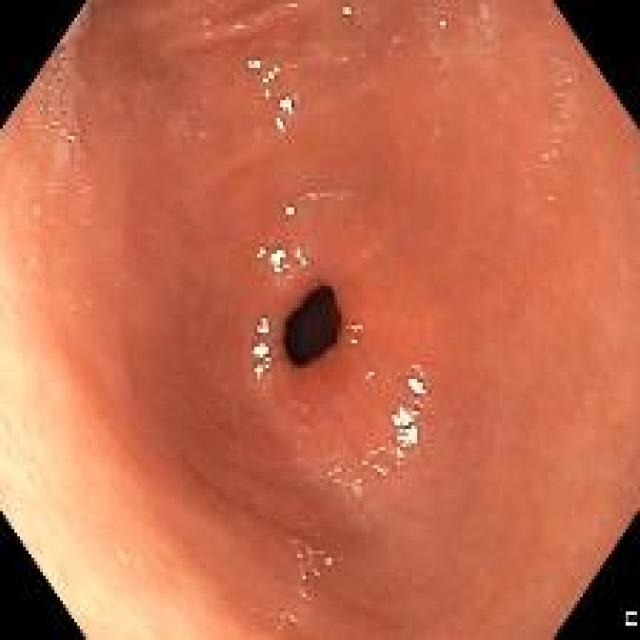bubbles: (39, 69, 69, 133), (430, 56, 447, 78), (61, 127, 78, 145), (53, 47, 70, 64), (65, 147, 81, 164), (345, 320, 362, 336), (427, 127, 443, 144), (480, 65, 497, 81), (552, 85, 566, 103), (334, 50, 348, 68), (362, 367, 375, 384), (347, 332, 360, 349), (561, 71, 573, 87), (137, 98, 150, 109), (479, 47, 490, 57)
contrast: (282, 284, 341, 370)
saturation: (0, 271, 83, 589), (83, 551, 200, 638)
specularity: (388, 405, 424, 449), (406, 374, 429, 399), (251, 356, 273, 380), (268, 247, 286, 269), (260, 64, 281, 82), (279, 94, 295, 114), (293, 247, 308, 267), (255, 317, 270, 336), (283, 201, 298, 218), (251, 343, 267, 356), (273, 117, 285, 133), (247, 59, 263, 70), (437, 17, 448, 31), (256, 244, 265, 257), (342, 7, 354, 15), (263, 88, 270, 97)
